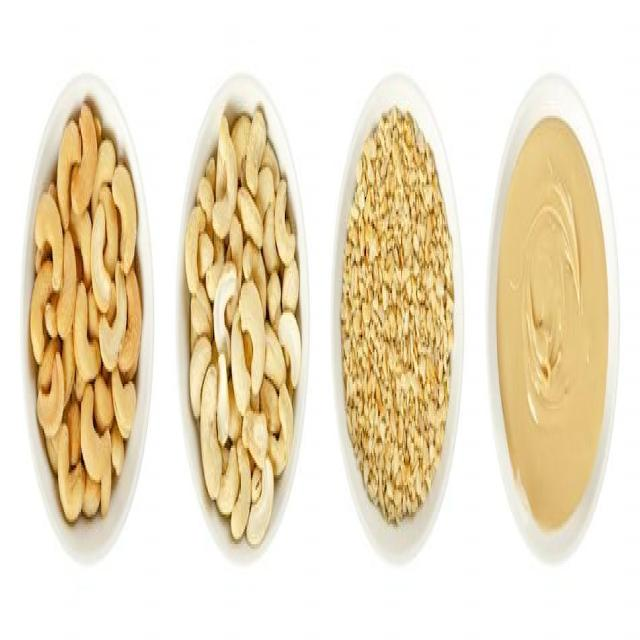cashew: (193, 380, 228, 522), (76, 272, 108, 416), (117, 146, 148, 276), (48, 220, 78, 339), (243, 269, 269, 403), (56, 420, 84, 542), (82, 397, 117, 482), (178, 209, 208, 307), (250, 458, 276, 561), (92, 238, 118, 332), (111, 283, 132, 395), (273, 172, 298, 266), (276, 311, 303, 393), (272, 382, 297, 467), (234, 424, 250, 544), (245, 106, 267, 193), (76, 106, 99, 186), (130, 272, 147, 373), (48, 344, 62, 452), (217, 149, 235, 233)
